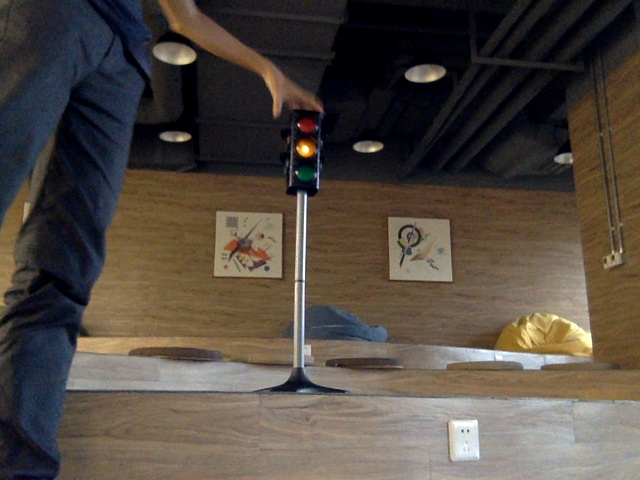yellow: (288, 118, 316, 185)
